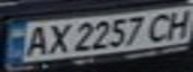2: (90, 17, 115, 52), (72, 19, 96, 53)
5: (109, 16, 130, 48)
7: (124, 13, 151, 46)
A: (18, 24, 51, 57)
C: (142, 10, 175, 43)
H: (160, 7, 193, 39)
X: (42, 20, 72, 56)
